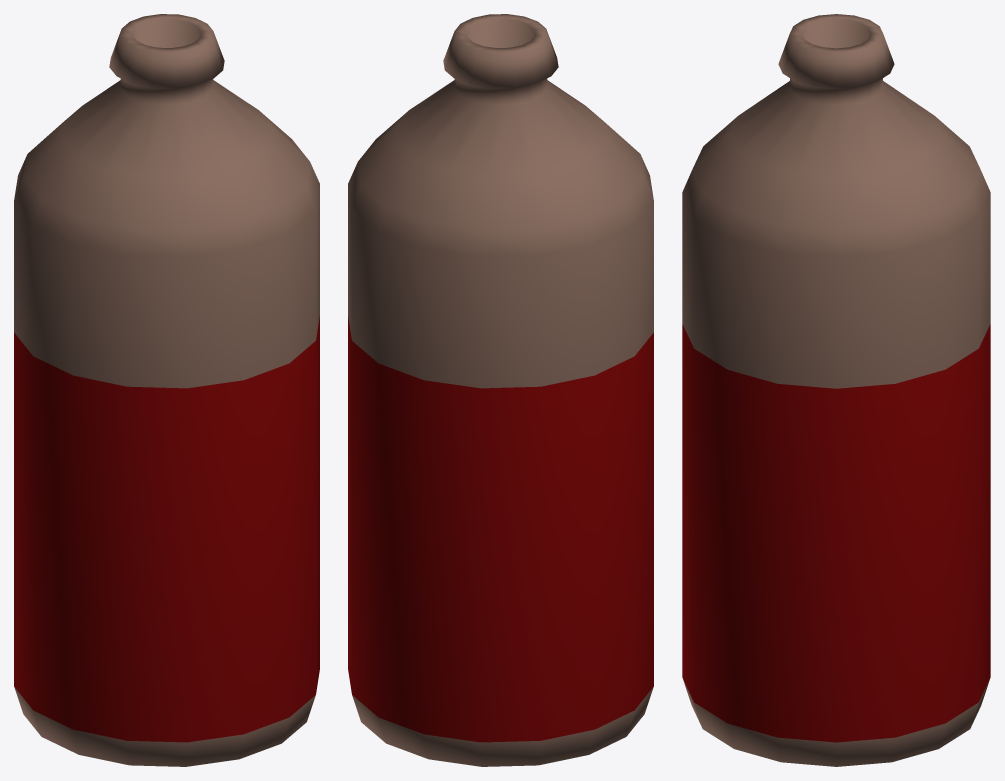
The model's file is Mesh_BeerBottle.fbx.
The picture shows the model from 3 angles, left to right: view 1: azimuth 30°, elevation 25°; view 2: azimuth 150°, elevation 25°; view 3: azimuth 270°, elevation 25°; orthographic projection.
Parts seen in each view (by area): view 1: Cylinder.003; view 2: Cylinder.003; view 3: Cylinder.003.
Part boxes in pixels (x1,y1,x2,y2): Cylinder.003: (14,14,319,766); Cylinder.003: (348,14,653,766); Cylinder.003: (682,14,990,766).
Bounding box in the file's own units: 11.07 × 26.73 × 11.07.
